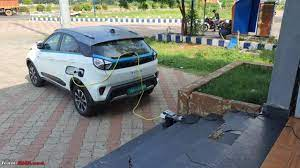Tata Nexon: (17, 24, 161, 119)
